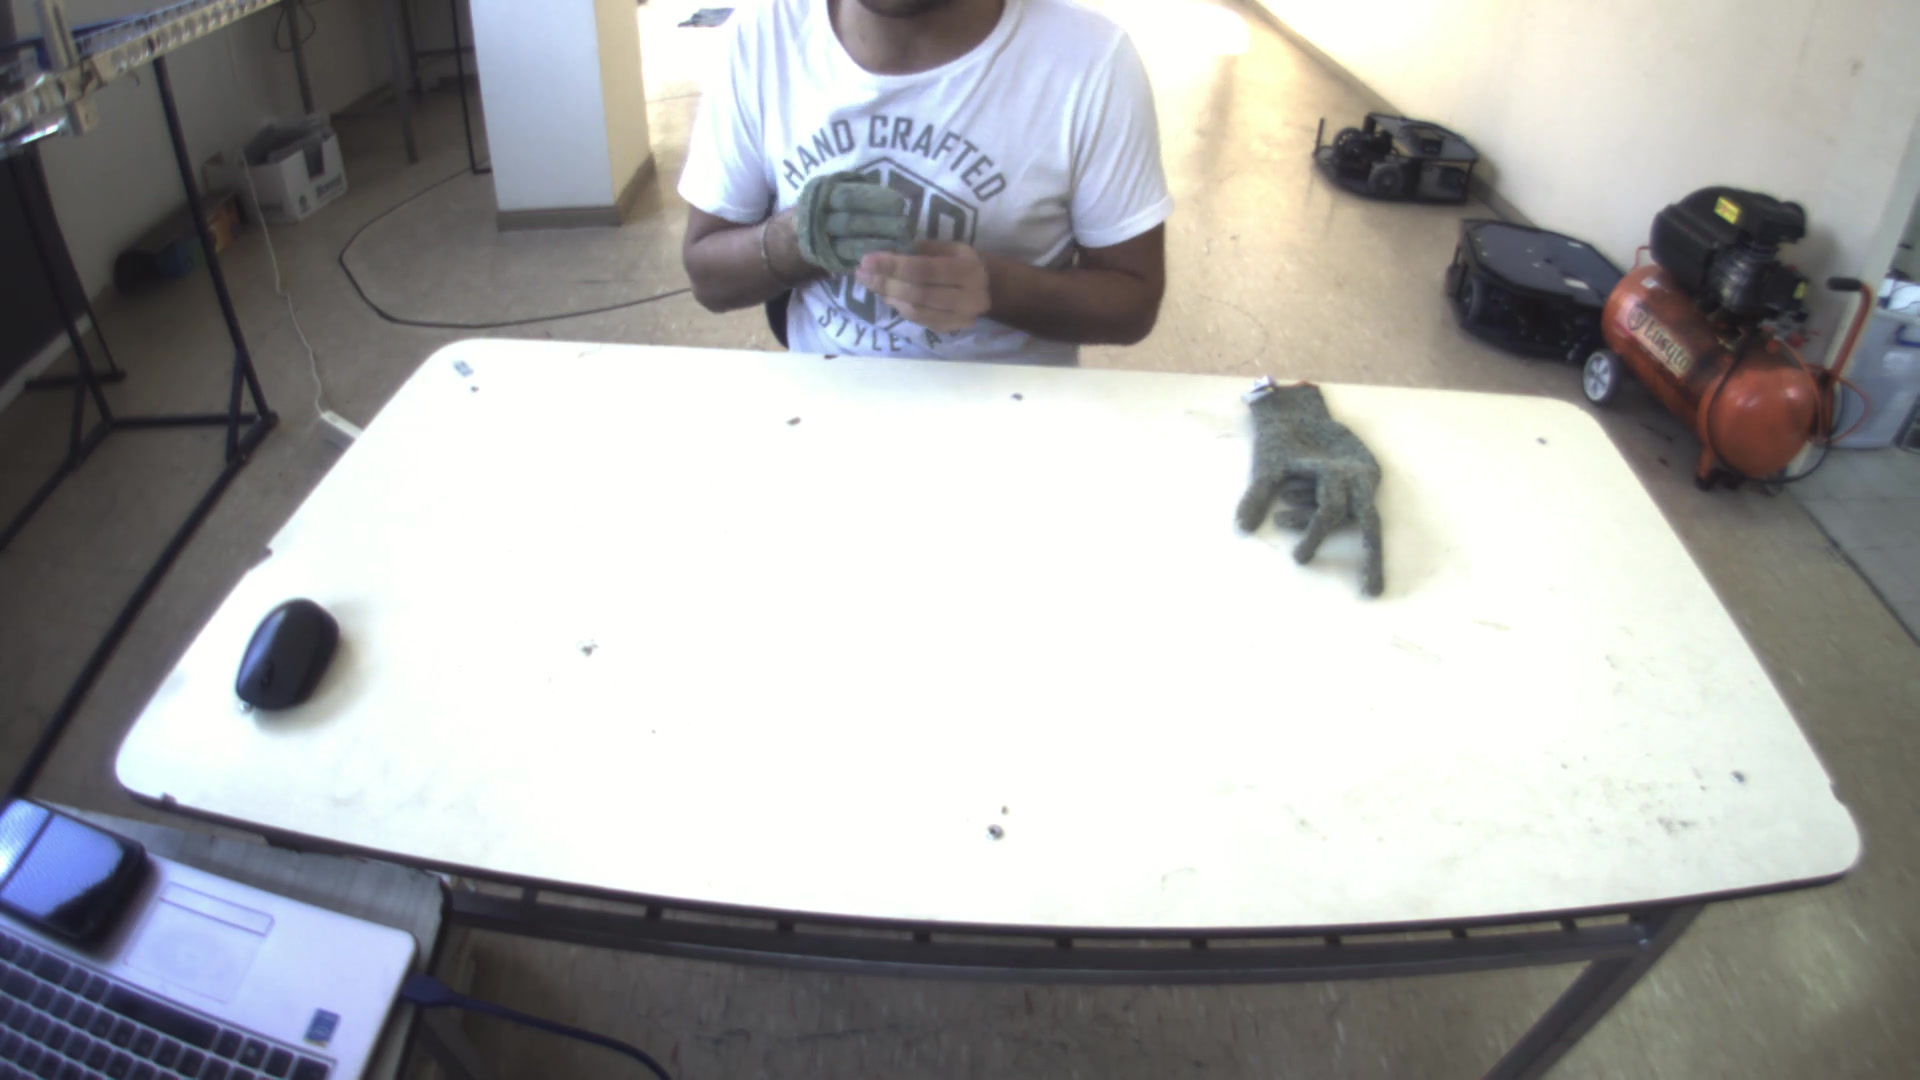hand: (851, 222, 1002, 334), (775, 160, 923, 270)
